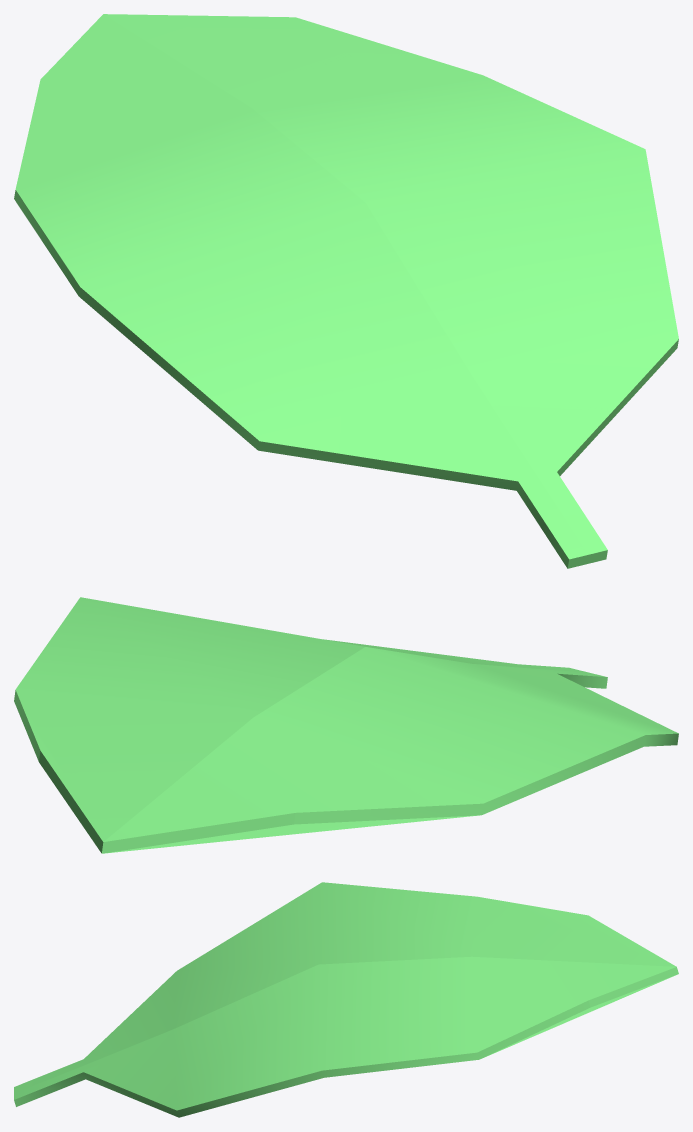
The model's file is Leaf.fbx.
3 views of the same model, one above another, from view 1: azimuth 30°, elevation 25°; view 2: azimuth 150°, elevation 25°; view 3: azimuth 270°, elevation 25° (orthographic). The views are drawn at different scales.
Parts seen in each view (by area): view 1: leaf; view 2: leaf; view 3: leaf.
Part boxes in pixels (box(x1,y1,x2,y2)): leaf: box(14, 14, 678, 568); leaf: box(14, 597, 678, 853); leaf: box(14, 882, 678, 1117).
Bounding box in the file's own units: 272 × 96.84 × 405.
